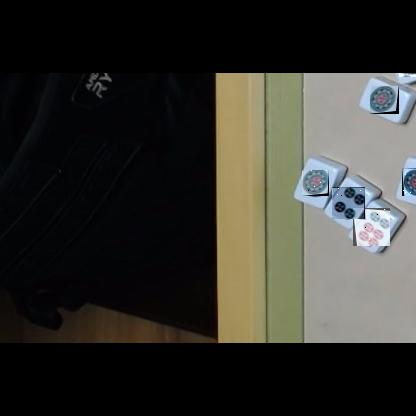1p: (370, 86, 399, 114), (302, 170, 329, 196), (402, 168, 416, 196)
4p: (332, 187, 365, 219), (399, 73, 416, 77)
6p: (353, 208, 390, 246)
